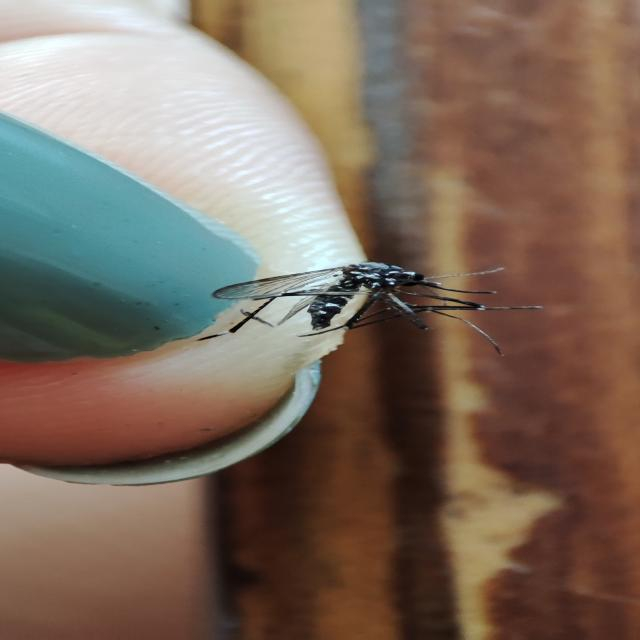albopictus: (191, 248, 544, 354)
